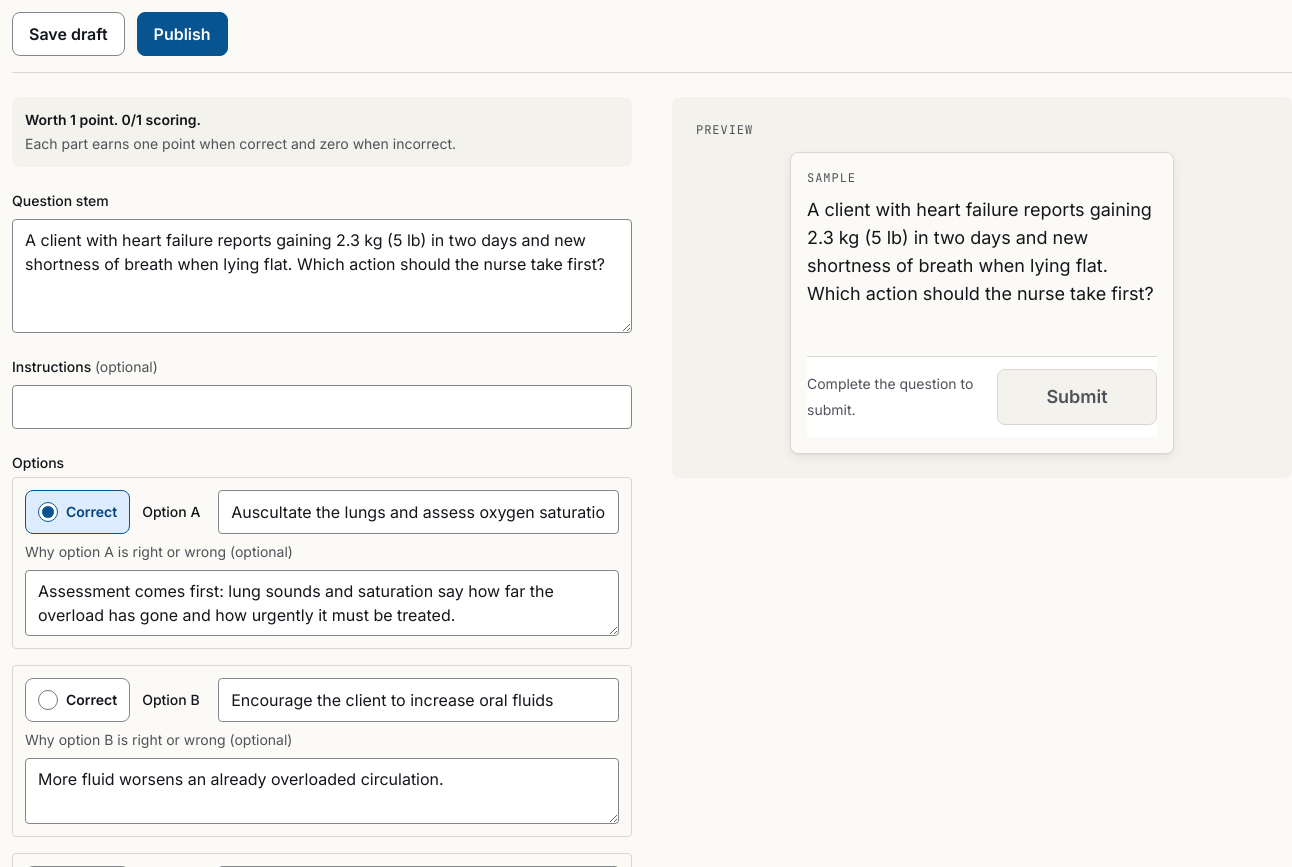
Scenario: EditorShell on a published item › gives no warning for a draft, and keeps the plain saved message
Click the button "Save draft".
click(68, 34)  # box [12,12,125,56]
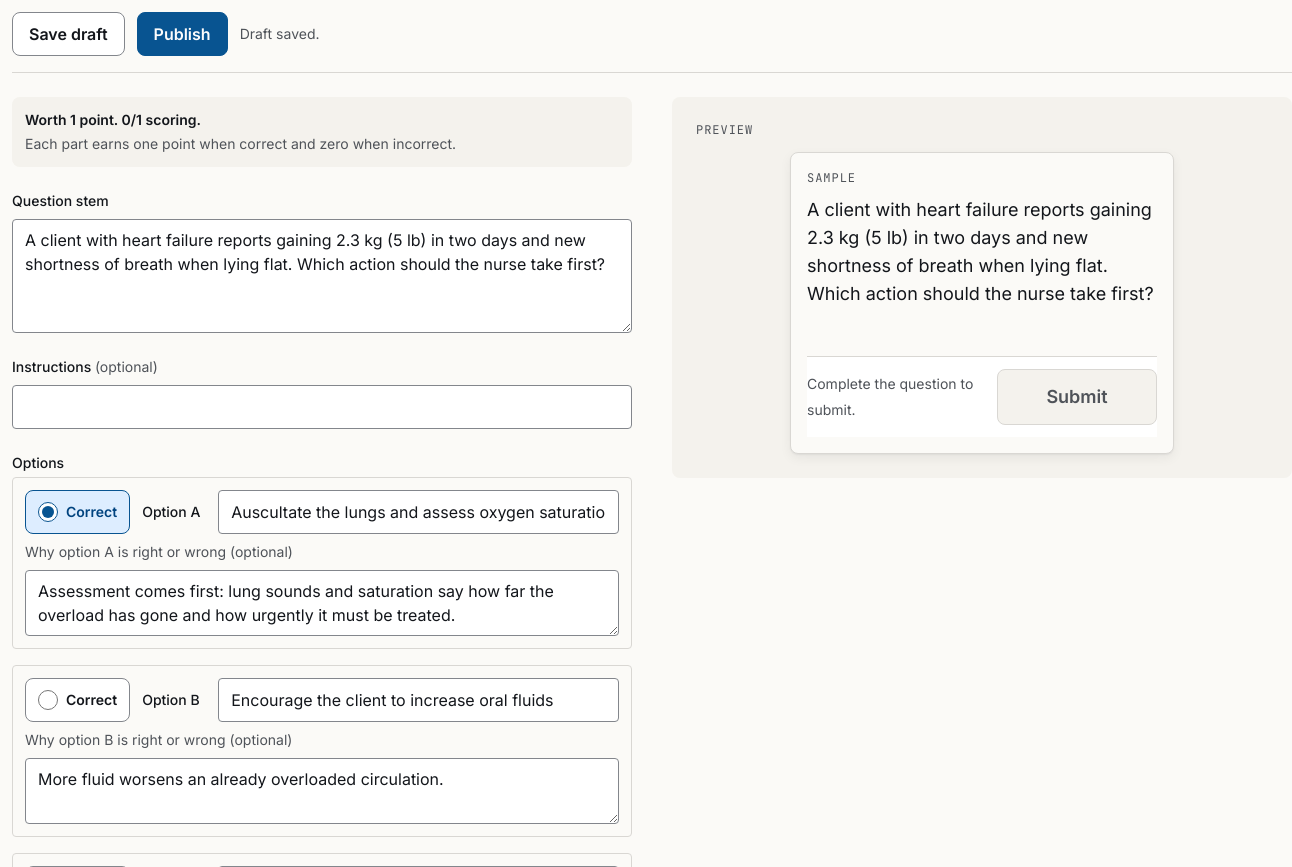
Expected: the message reads "Draft saved.", [240,25,320,42]
